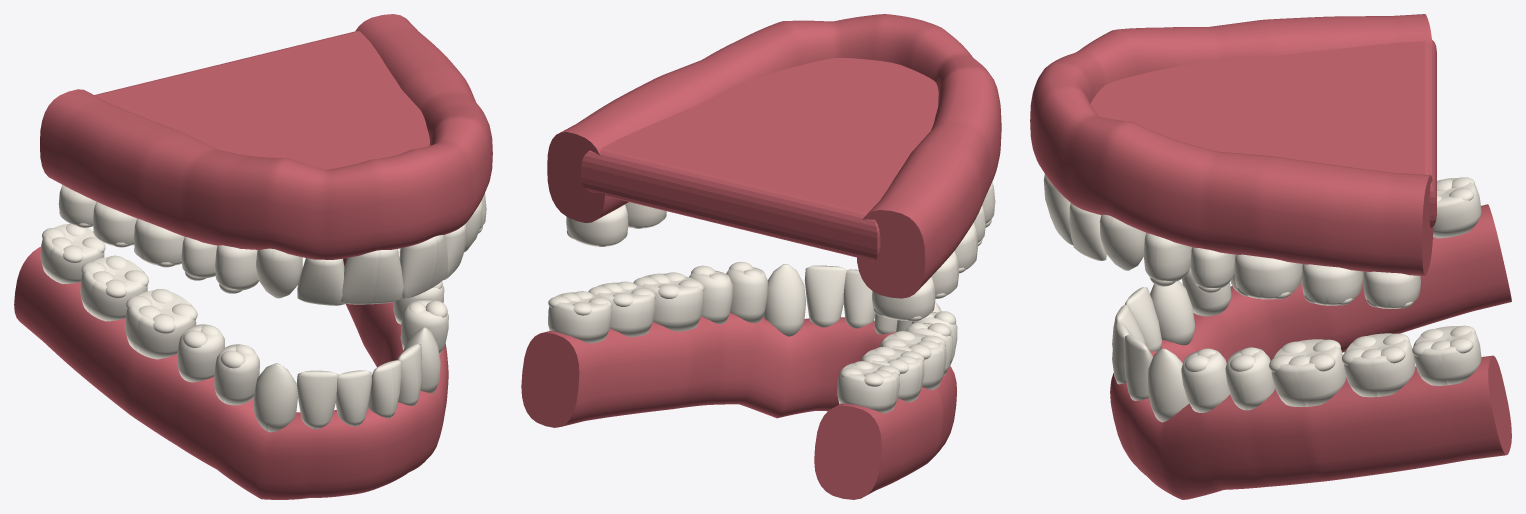
The model's file is jaw.glb.
3 renders of one model, left to right at view 1: azimuth 30°, elevation 25°; view 2: azimuth 150°, elevation 25°; view 3: azimuth 270°, elevation 25°, orthographic. The views are drawn at different scales.
Parts seen in each view (by area): view 1: upper_gingiva, lower_gingiva, palatal_mucosa, tooth_11_central_incisor_crown, tooth_46_first_molar_crown, tooth_43_canine_crown, tooth_21_central_incisor_crown, tooth_47_second_molar_crown, tooth_42_lateral_incisor_crown, tooth_12_lateral_incisor_crown, tooth_44_first_premolar_crown, tooth_48_third_molar_crown (+17 smaller); view 2: palatal_mucosa, lower_gingiva, upper_gingiva, tooth_33_canine_crown, tooth_32_lateral_incisor_crown, tooth_38_third_molar_crown, tooth_48_third_molar_crown, tooth_36_first_molar_crown, tooth_37_second_molar_crown, tooth_34_first_premolar_crown, tooth_28_third_molar_crown, tooth_18_third_molar_crown (+13 smaller); view 3: upper_gingiva, lower_gingiva, palatal_mucosa, tooth_36_first_molar_crown, tooth_37_second_molar_crown, tooth_38_third_molar_crown, tooth_26_first_molar_crown, tooth_33_canine_crown, tooth_43_canine_crown, tooth_27_second_molar_crown, tooth_34_first_premolar_crown, tooth_35_second_premolar_crown (+16 smaller).
Part boxes in pixels (x1,y1,x2,y2): upper_gingiva: (40, 14, 492, 259); lower_gingiva: (14, 247, 448, 499); palatal_mucosa: (94, 31, 429, 169); tooth_11_central_incisor_crown: (341, 249, 403, 304); tooth_46_first_molar_crown: (125, 290, 196, 359); tooth_43_canine_crown: (254, 363, 297, 432); tooth_21_central_incisor_crown: (399, 235, 448, 298); tooth_47_second_molar_crown: (80, 257, 147, 321); tooth_42_lateral_incisor_crown: (296, 370, 338, 429); tooth_12_lateral_incisor_crown: (297, 258, 345, 305); tooth_44_first_premolar_crown: (214, 344, 259, 405); tooth_48_third_molar_crown: (40, 224, 104, 283); palatal_mucosa: (581, 58, 938, 261); lower_gingiva: (521, 313, 956, 499); upper_gingiva: (547, 14, 1001, 298); tooth_33_canine_crown: (762, 264, 805, 336); tooth_32_lateral_incisor_crown: (804, 265, 847, 327); tooth_38_third_molar_crown: (548, 292, 611, 343); tooth_48_third_molar_crown: (837, 363, 899, 413); tooth_36_first_molar_crown: (642, 273, 703, 331); tooth_37_second_molar_crown: (597, 282, 655, 337); tooth_34_first_premolar_crown: (726, 267, 767, 323); tooth_28_third_molar_crown: (566, 204, 628, 246); tooth_18_third_molar_crown: (872, 277, 935, 320); upper_gingiva: (1030, 14, 1433, 276); lower_gingiva: (1110, 204, 1511, 499); palatal_mucosa: (1090, 40, 1436, 227); tooth_36_first_molar_crown: (1271, 339, 1346, 406); tooth_37_second_molar_crown: (1344, 333, 1415, 397); tooth_38_third_molar_crown: (1413, 326, 1481, 385); tooth_26_first_molar_crown: (1234, 254, 1302, 299); tooth_33_canine_crown: (1147, 348, 1189, 422); tooth_43_canine_crown: (1150, 280, 1195, 345); tooth_27_second_molar_crown: (1301, 264, 1363, 305); tooth_34_first_premolar_crown: (1181, 350, 1230, 412); tooth_35_second_premolar_crown: (1225, 348, 1274, 410).
Size of the model in its own units: 0.0684 by 0.0634 by 0.072.
